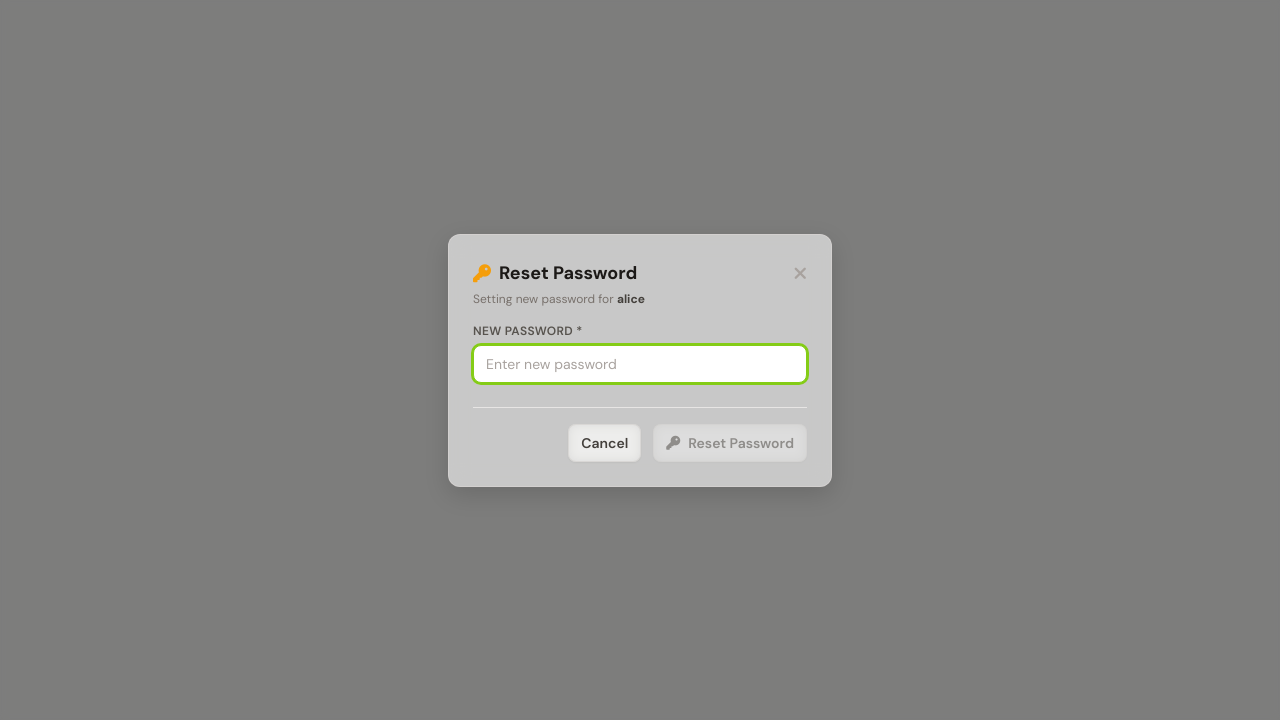
Scenario: UserPasswordModal › disables submit until a non-blank password is entered
Check: the button "Reset Password" is disabled, box [653, 424, 807, 462]
Type "pw" into the password field with placeholder "Enter new password" at [640, 364], box [473, 344, 807, 382]
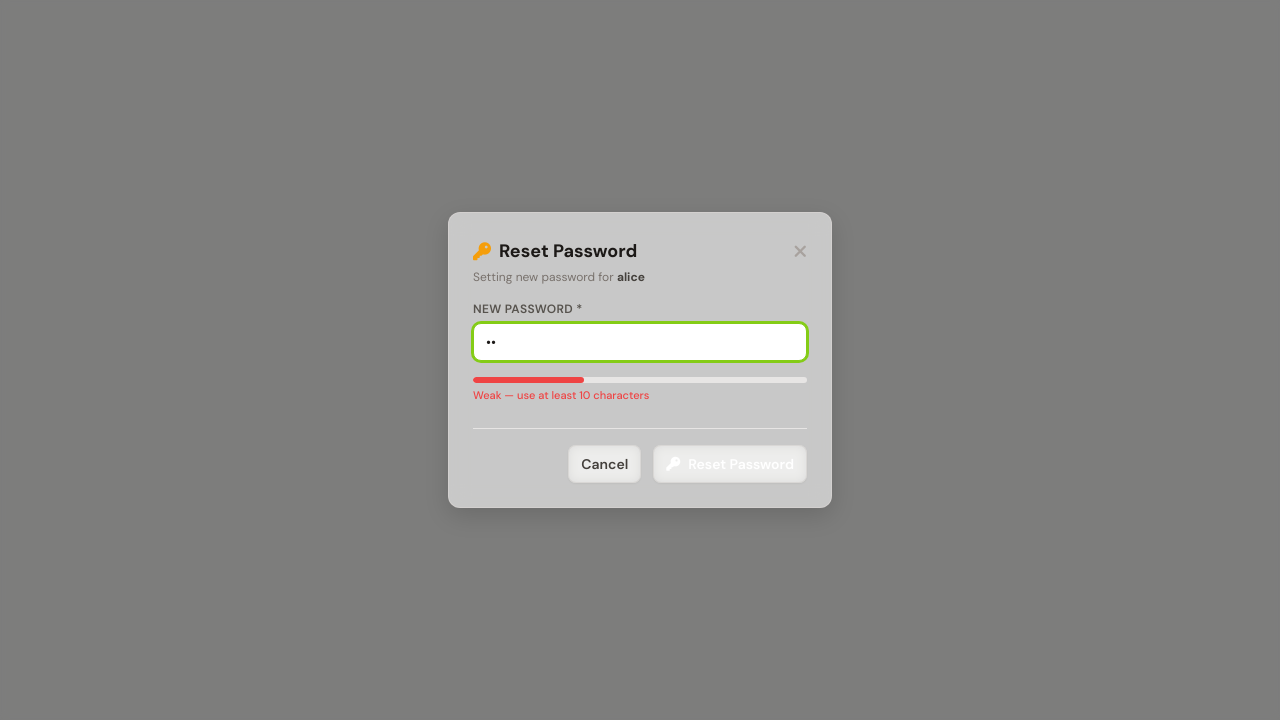
Check: the button "Reset Password" is enabled, box [653, 445, 807, 483]
